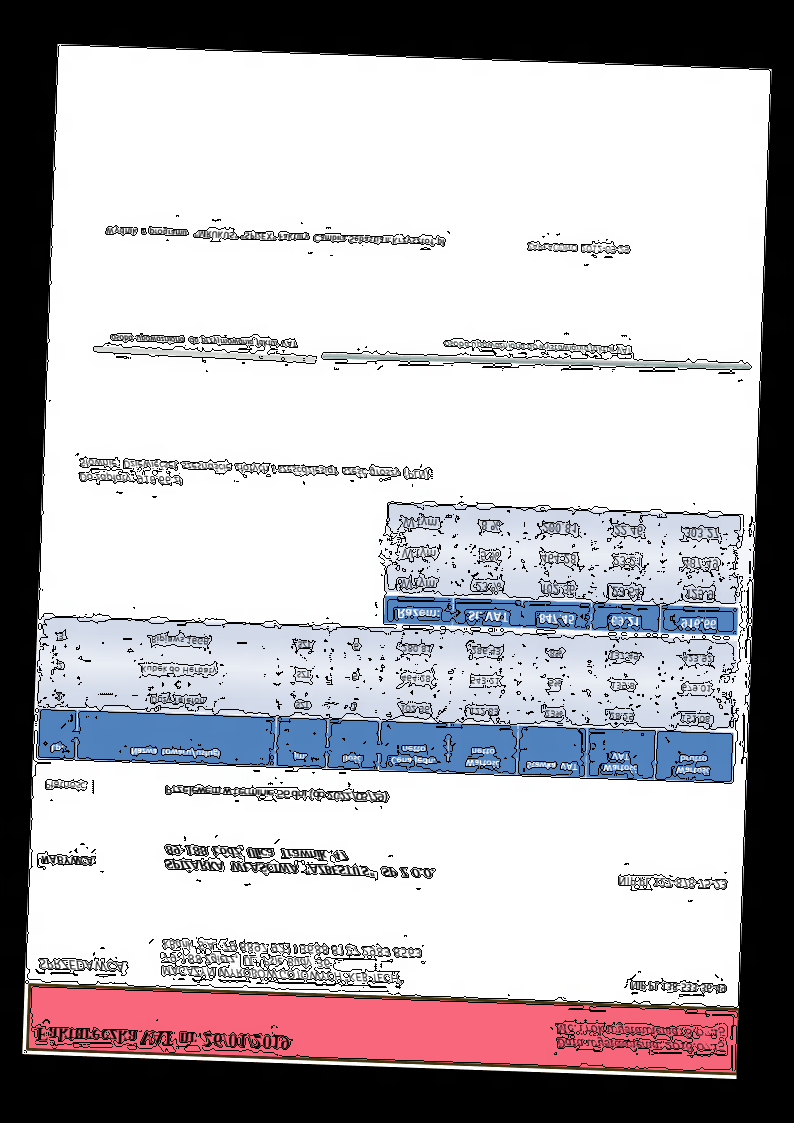Table: (35, 615, 739, 784), (383, 501, 743, 637)
TextBox: (76, 454, 431, 496), (158, 935, 423, 987), (162, 842, 438, 884), (103, 222, 447, 251), (33, 1024, 292, 1054), (553, 1019, 728, 1057), (163, 782, 388, 805), (439, 337, 634, 359), (108, 330, 299, 351), (613, 873, 726, 894), (627, 978, 728, 997), (525, 240, 631, 258), (35, 955, 128, 975), (38, 852, 96, 869), (42, 777, 90, 794)
